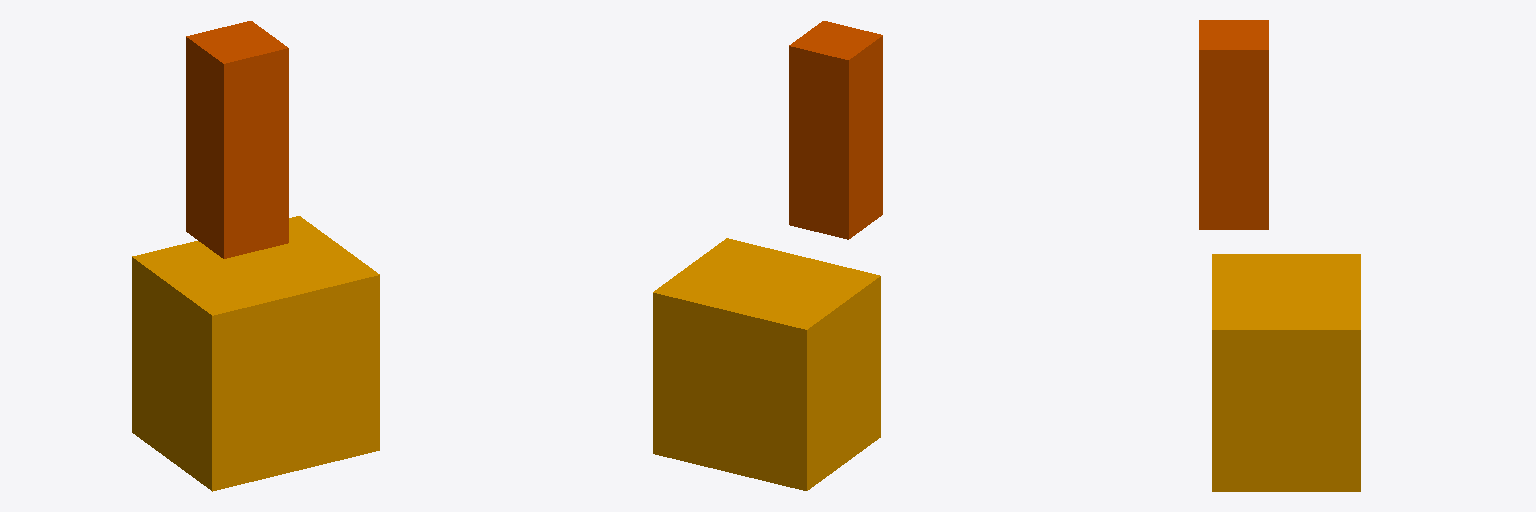
URDF robot description (inmoov):
<?xml version="1.0" ?>
<!-- =================================================================================== -->
<!-- |    This document was autogenerated by xacro from inmoov_shadow_hand_v2.urdf.xacro | -->
<!-- |    EDITING THIS FILE BY HAND IS NOT RECOMMENDED                                 | -->
<!-- =================================================================================== -->
<robot name="inmoov">
  <!--xacro:property name="pi" value="3.1415926539"/-->
  <!-- meshlab steps taken from http://gazebosim.org/tutorials?tut=inertia -->
  <!-- assume material density is 1.0g per 1.0cm^2 -->
  <!-- ABS is 1.04g per 1.0cm^3 -->
  <!-- PLA is 1.25g per 1.0cm^3 -->
  <!-- <xacro:include filename="$(find inmoov_description)/urdf/inmoov.gazebo" /> -->
  <!-- usage: e.g. ${M_PI/4} -->
  <material name="Blue">
    <color rgba="0.0 0.0 0.8 1.0"/>
  </material>
  <material name="Green">
    <color rgba="0.0 0.8 0.0 1.0"/>
  </material>
  <material name="BiotacGreen">
    <color rgba="0.31 0.85 0.42 1.0"/>
  </material>
  <material name="Grey">
    <color rgba="0.2 0.2 0.2 1.0"/>
  </material>
  <material name="LightGrey">
    <color rgba="0.6 0.6 0.6 1.0"/>
  </material>
  <material name="Red">
    <color rgba="0.8 0.0 0.0 1.0"/>
  </material>
  <material name="White">
    <color rgba="1.0 1.0 1.0 1.0"/>
  </material>

  <link name="r_shoulder_link">
    <visual>
      <geometry>
        <mesh filename="package://inmoov_meshes/meshes/r_shoulder.stl" scale="0.001 0.001 0.001"/>
      </geometry>
      <origin rpy="0 0 0" xyz="0 0 0"/>
      <material name="cframe">
        <color rgba="0.40 0.40 0.40 1"/>
      </material>
    </visual>
    <inertial>
      <mass value="322.44334375"/>
      <inertia ixx="0.60134592" ixy="0.00343772975" ixz="-0.011761917" iyy="0.473865856" iyz="-0.114277" izz="0.500951584"/>
    </inertial>
  </link>
  <link name="r_bicep_link_aux_0">
    <inertial>
      <origin rpy="0 0 0" xyz="0 0 0"/>
      <mass value="1"/>
      <inertia ixx="0.01" ixy="0" ixz="0" iyy="0.01" iyz="0" izz="0.01"/>
    </inertial>
  </link>
  <link name="r_bicep_link_aux_1">
    <inertial>
      <origin rpy="0 0 0" xyz="0 0 0"/>
      <mass value="1"/>
      <inertia ixx="0.01" ixy="0" ixz="0" iyy="0.01" iyz="0" izz="0.01"/>
    </inertial>
  </link>
  <link name="r_bicep_link">
    <visual>
      <geometry>
        <mesh filename="package://inmoov_meshes/meshes/bicep.stl" scale="0.001 0.001 0.001"/>
      </geometry>
      <origin rpy="0 0 0" xyz="0 0 0"/>
      <material name="cframe">
        <color rgba="0.40 0.40 0.40 1"/>
      </material>
    </visual>
    <inertial>
      <mass value="281.91265625"/>
      <inertia ixx="1.283355392" ixy="-0.000200782203125" ixz="-0.224559104" iyy="1.399255168" iyz="0.0006545236875" izz="0.416621216"/>
    </inertial>
  </link>
  <link name="r_forearm_link_aux">
    <inertial>
      <origin rpy="0 0 0" xyz="0 0 0"/>
      <mass value="1"/>
      <inertia ixx="0.01" ixy="0" ixz="0" iyy="0.01" iyz="0" izz="0.01"/>
    </inertial>
  </link>
  <link name="r_forearm_link">
<!--    openrave cannot visualize primitive shape e.g. box-->
    <visual>
      <geometry>
        <mesh filename="package://inmoov_meshes/meshes/box-binary.stl" scale="0.07 0.07 0.2"/>
      </geometry>
      <origin rpy="0 0 0" xyz="0.03 -0.00 -0.18"/>
    </visual>
    <collision>
      <geometry>
        <box size="0.07 0.07 0.2"/>
      </geometry>
      <origin rpy="0 0 0" xyz="0.03 -0.00 -0.18"/>
    </collision>
    <inertial>
      <mass value="401.76659375"/>
      <inertia ixx="3.242307584" ixy="0.050011216" ixz="-0.14318512" iyy="3.24251008" iyz="0.086288976" izz="0.58458784"/>
    </inertial>
  </link>

  <joint name="r_shoulder_out_joint" type="revolute">
    <axis xyz="1 0 0"/>
    <limit effort="1000.0" lower="-2.07079632679" upper="1.57079632679" velocity="1745.32925199"/>
    <origin rpy="0 0 0" xyz="0 -0.066 -0.06"/>
    <parent link="r_shoulder_link"/>
    <child link="r_bicep_link_aux_0"/>
  </joint>
  <joint name="r_shoulder_lift_joint" type="revolute">
    <axis xyz="0 1 0"/>
    <limit effort="1000.0" lower="-2.07079632679" upper="1.57079632679" velocity="1745.32925199"/>
    <origin rpy="0 0 0" xyz="0 0 0"/>
    <parent link="r_bicep_link_aux_0"/>
    <child link="r_bicep_link_aux_1"/>
  </joint>
  <joint name="r_upper_arm_roll_joint" type="revolute">
    <axis xyz="0 0 1"/>
    <limit effort="1000.0" lower="-1.57079632679" upper="1.57079632679" velocity="1745.32925199"/>
    <origin rpy="0 0 0" xyz="0 0 0"/>
    <parent link="r_bicep_link_aux_1"/>
    <child link="r_bicep_link"/>
  </joint>
  <joint name="r_elbow_flex_joint" type="revolute">
    <axis xyz="0 1 0"/>
    <limit effort="1000.0" lower="-3.14159265359" upper="0.0" velocity="1745.32925199"/>
    <origin rpy="0 0 0" xyz="-0.054 -0.009 -0.2621"/>
    <parent link="r_bicep_link"/>
    <child link="r_forearm_link_aux"/>
  </joint>
  <joint name="r_elbow_roll_joint" type="revolute">
    <axis xyz="0 0 1"/>
    <limit effort="1000.0" lower="-1.57079632679" upper="1.57079632679" velocity="1745.32925199"/>
    <origin rpy="0 0 0" xyz="0.0 0 0.0"/>
    <parent link="r_forearm_link_aux"/>
    <child link="r_forearm_link"/>
  </joint>

  <!-- shadow hand -->
  <link name="r_hand_link">
    <inertial>
      <origin rpy="0 0 0" xyz="0 0 0"/>
      <mass value="1"/>
      <inertia ixx="0.01" ixy="0" ixz="0" iyy="0.01" iyz="0" izz="0.01"/>
    </inertial>
  </link>
  <joint name="r_wrist_roll_joint" type="fixed">
    <parent link="r_forearm_link"/>
    <child link="r_hand_link"/>
    <origin rpy="3.14159265359 0 0" xyz="0.0303 -0.00729 -0.302"/>
  </joint>
  <link name="rh_wrist">
  <!--match mass to arm-->
    <inertial>
      <origin rpy="0 0 0" xyz="0 0 0.029"/>
      <mass value="100"/>
      <inertia ixx="0.035" ixy="0.0" ixz="0.0" iyy="0.064" iyz="0.0" izz="0.0438"/>
    </inertial>
    <visual>
      <origin rpy="0 0 0" xyz="0 0 0"/>
      <geometry name="rh_wrist_visual">
        <mesh filename="package://sr_description/hand/model/wrist.dae" scale="0.001 0.001 0.001"/>
      </geometry>
      <material name="LightGrey"/>
    </visual>
<!--    <collision>-->
<!--      <origin rpy="1.5708 1.5708 0" xyz="0 0 0"/>-->
<!--      <geometry name="rh_wrist_collision_geom">-->
<!--        <cylinder length="0.030" radius="0.0135"/>-->
<!--      </geometry>-->
<!--    </collision>-->
<!--    <collision>-->
<!--      <origin rpy="0 1.5708 0" xyz="-0.026 0 0.034"/>-->
<!--      <geometry>-->
<!--        <cylinder length="0.010" radius="0.011"/>-->
<!--      </geometry>-->
<!--    </collision>-->
<!--    <collision>-->
<!--      <origin rpy="0 1.5708 0" xyz="0.031 0 0.034"/>-->
<!--      <geometry>-->
<!--        <cylinder length="0.010" radius="0.011"/>-->
<!--      </geometry>-->
<!--    </collision>-->
<!--    <collision>-->
<!--      <origin rpy="0 0.7854 0" xyz="-0.021 0 0.011"/>-->
<!--      <geometry>-->
<!--        <box size="0.027 0.018 0.010"/>-->
<!--      </geometry>-->
<!--    </collision>-->
<!--    <collision>-->
<!--      <origin rpy="0 -0.7854 0" xyz="0.026 0 0.010"/>-->
<!--      <geometry>-->
<!--        <box size="0.027 0.018 0.010"/>-->
<!--      </geometry>-->
<!--    </collision>-->
  </link>
  <gazebo reference="rh_wrist">
    <material>Gazebo/White</material>
    <selfCollide>false</selfCollide>
  </gazebo>
  <joint name="rh_WRJ2" type="revolute">
    <parent link="r_hand_link"/>
    <child link="rh_wrist"/>
    <origin rpy="0 0 0" xyz="0 0.0 0.0"/>
    <!-- this is the wrist adduction -->
    <axis xyz="0 1.0 0"/>
    <limit effort="10" lower="-1.0471975512" upper="1.0471975512" velocity="20.0"/>
    <dynamics damping="0.1"/>
  </joint>
  <gazebo reference="rh_WRJ2">
    <provideFeedback>1</provideFeedback>
    <implicitSpringDamper>1</implicitSpringDamper>
  </gazebo>
  <transmission name="rh_wrist_transmission">
    <type>sr_mechanism_model/SimpleTransmission</type>
    <actuator name="rh_WRJ2">
      <mechanicalReduction>1</mechanicalReduction>
    </actuator>
    <joint name="rh_WRJ2">
      <hardwareInterface>EffortJointInterface</hardwareInterface>
      <hardwareInterface>PositionJointInterface</hardwareInterface>
    </joint>
  </transmission>

  <link name="rh_palm">
    <inertial>
      <origin rpy="0 0 0" xyz="0 0 0.035"/>
      <mass value="0.3"/>
      <inertia ixx="0.0003581" ixy="0.0" ixz="0.0" iyy="0.0005287" iyz="0.0" izz="0.000191"/>
    </inertial>
    <!--    openrave cannot visualize primitive shape e.g. box-->
    <visual>
      <geometry>
        <mesh filename="package://inmoov_meshes/meshes/box-binary.stl" scale="0.18 0.15 0.18"/>
      </geometry>
      <origin rpy="0 0 0" xyz="0.05 -0.06 0.1"/>
    </visual>
    <collision>
      <geometry>
        <box size="0.18 0.15 0.18"/>
      </geometry>
      <origin rpy="0 0 0" xyz="0.05 -0.06 0.1"/>
    </collision>
  </link>
  <joint name="rh_WRJ1" type="revolute">
    <parent link="rh_wrist"/>
    <child link="rh_palm"/>
    <origin rpy="0 0 0" xyz="0 0 0.03"/>
    <axis xyz="1 0 0"/>
    <!-- this is the wrist flexion -->
    <limit effort="30" lower="-1.57079632679" upper="1.57079632679" velocity="20.0"/>
    <dynamics damping="0.1"/>
  </joint>
</robot>

--- Facts derived from the render (not from the file) ---
Views: 3 orthographic renders of the robot side by side, from view 1: azimuth 30°, elevation 25°; view 2: azimuth 150°, elevation 25°; view 3: azimuth 270°, elevation 25°.
Model inmoov with 9 links and 8 joints (7 revolute, 1 fixed), rooted at r_shoulder_link, posed all joints at 0.
Links seen in each view (by area): view 1: rh_palm, r_forearm_link; view 2: rh_palm, r_forearm_link; view 3: rh_palm, r_forearm_link.
Boxes of the visible links, box(x1,y1,x2,y2) form: rh_palm: box(132, 216, 379, 491); r_forearm_link: box(186, 21, 288, 258); rh_palm: box(653, 238, 880, 490); r_forearm_link: box(789, 21, 882, 239); rh_palm: box(1212, 254, 1360, 491); r_forearm_link: box(1199, 20, 1268, 229).
Size in the robot's own frame: 0.18 by 0.1627 by 0.442 metres.
2 mesh visuals loaded from 4 distinct referenced files (1 binary STL); not drawn: 3 (reference not matched to a file when rendering).